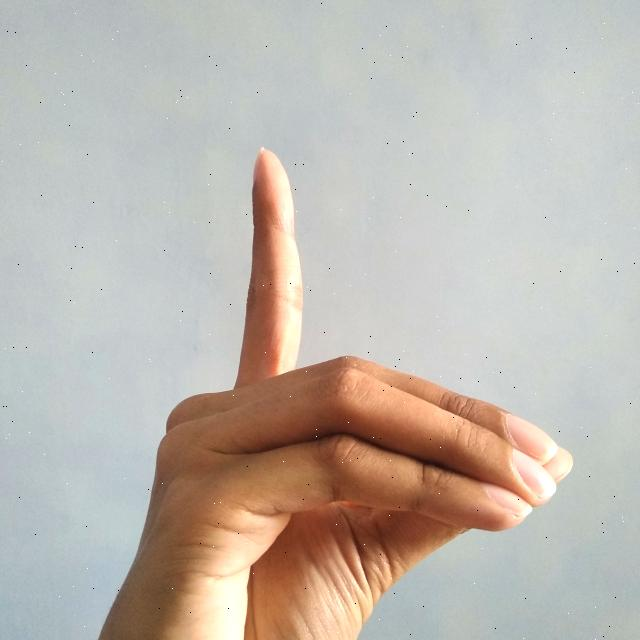D: (96, 145, 580, 640)
